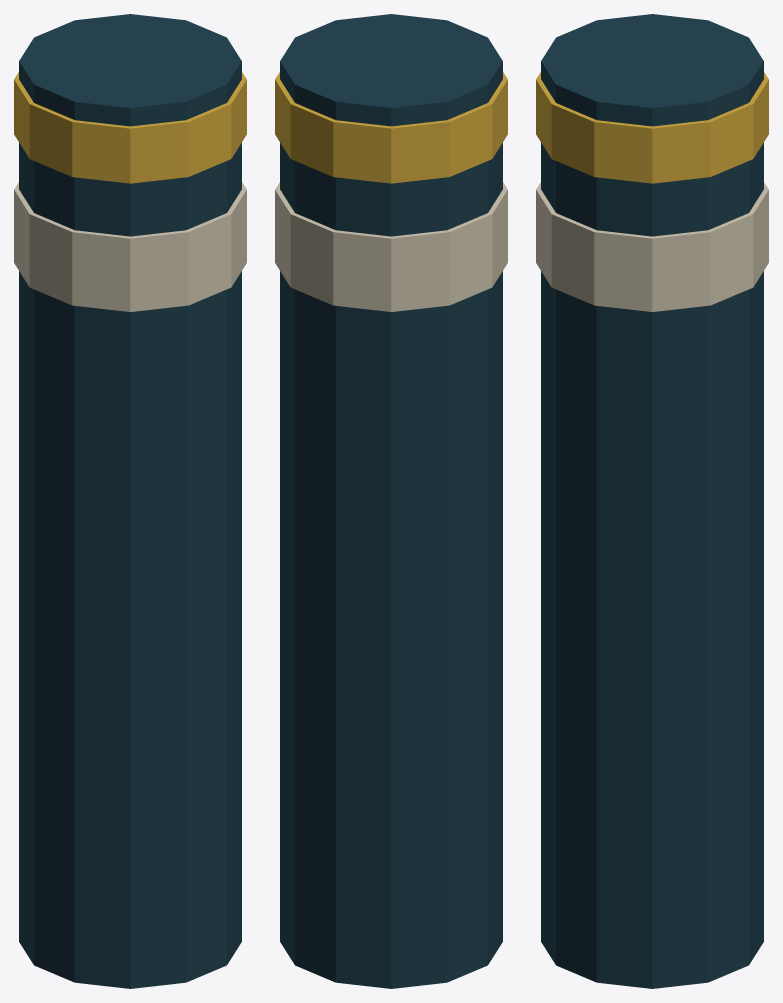
Rendered from bollard.glb.
The picture shows the model from 3 angles, left to right: view 1: azimuth 30°, elevation 25°; view 2: azimuth 150°, elevation 25°; view 3: azimuth 270°, elevation 25°; orthographic projection.
Visible parts, largest first — view 1: bollard_pc; view 2: bollard_pc; view 3: bollard_pc.
Boxes of the visible parts, x1,y1,x2,y2 form: bollard_pc: (14,14,246,988); bollard_pc: (275,14,507,988); bollard_pc: (536,14,768,988).
Bounding box in the file's own units: 0.23 × 0.96 × 0.23.
